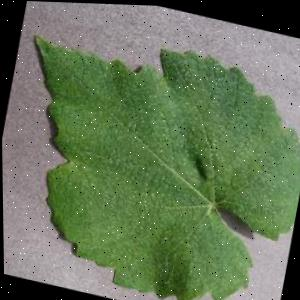Folha: (0, 10, 300, 300)
